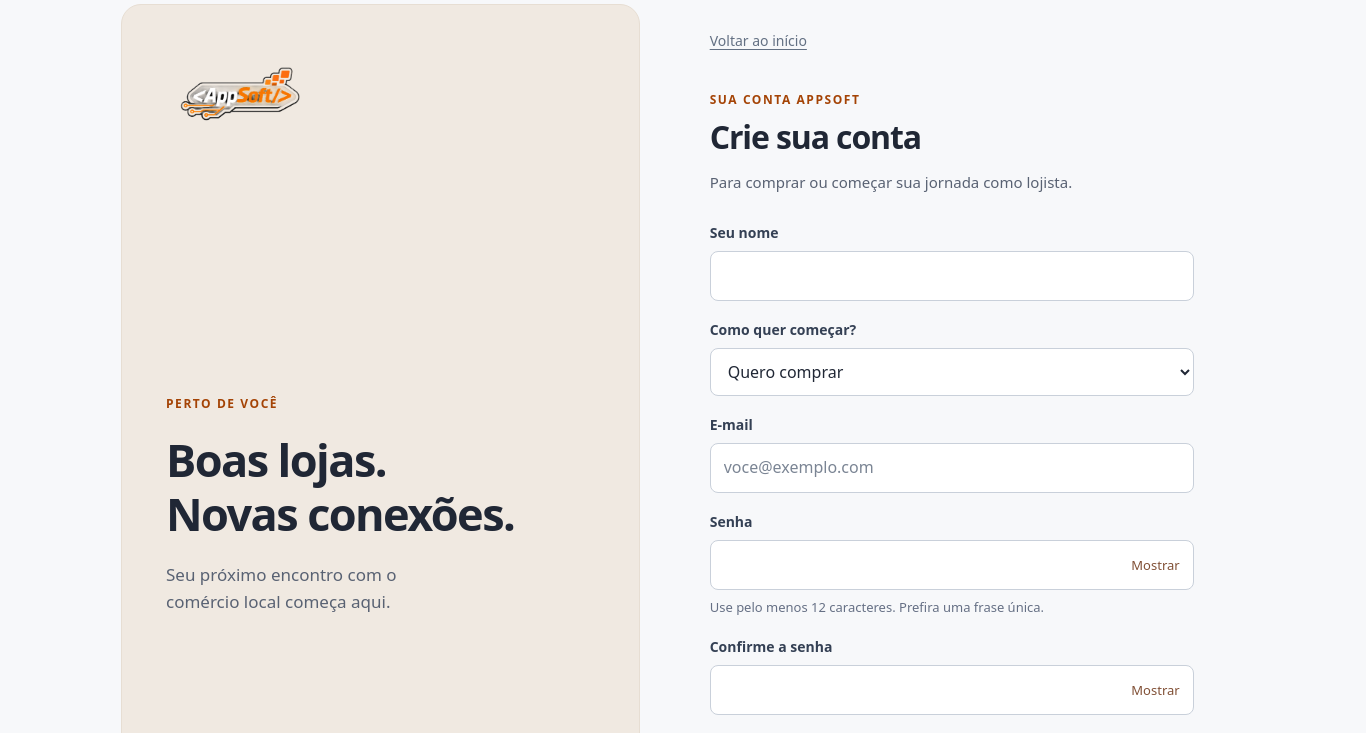
Test case: cadastro e login › não cadastra quando as senhas são diferentes
Type "Ana" into the field labelled "Seu nome".
click(952, 276); type("Ana")  # box [710,251,1194,301]
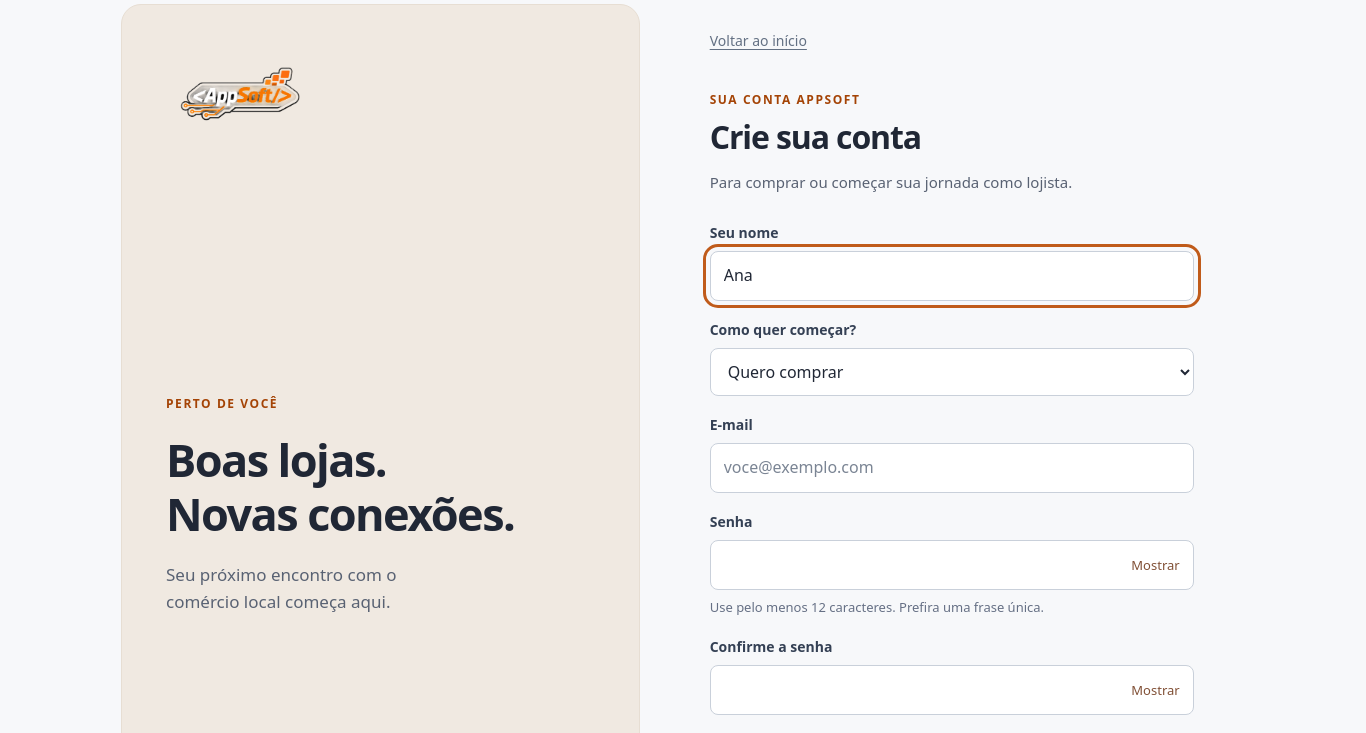
Type "ana@example.test" into the field labelled "E-mail".
click(952, 468); type("ana@example.test")  # box [710,443,1194,493]
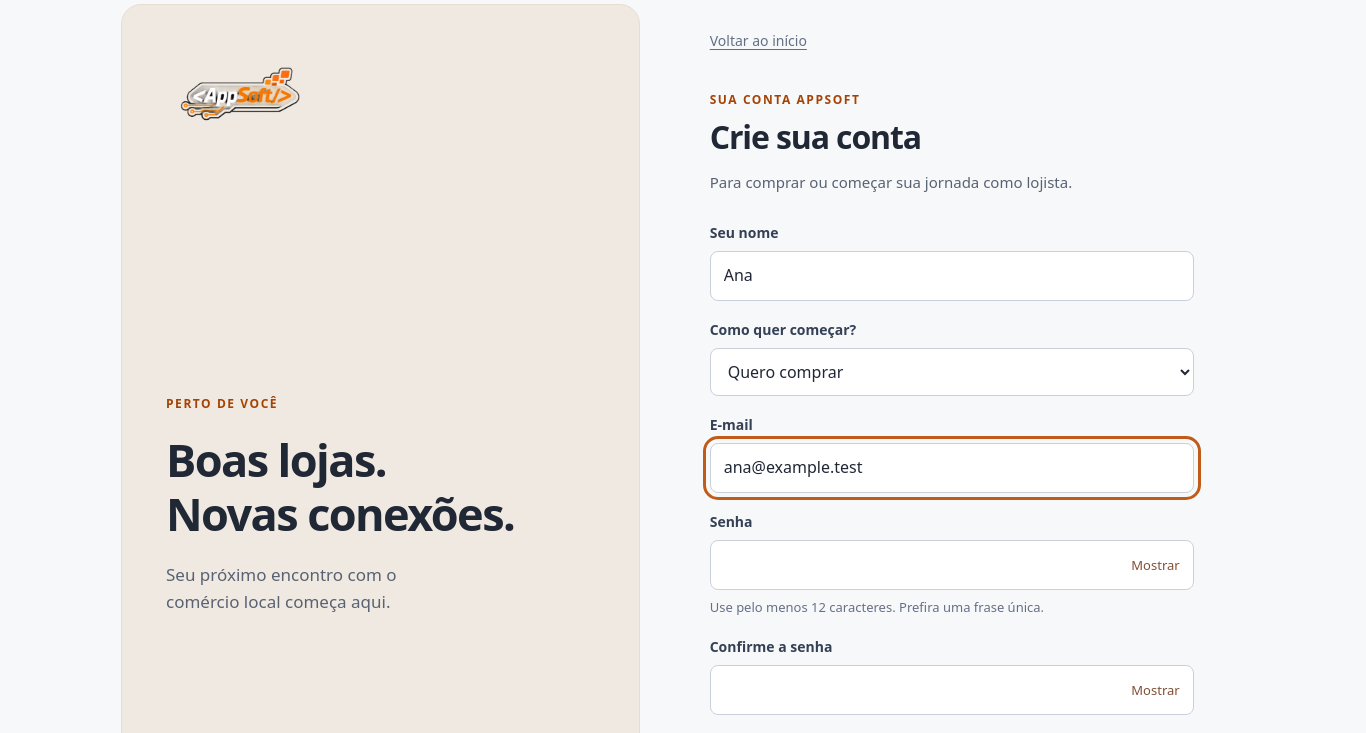
Type "primeira-senha-123" into the password field labelled "Senha".
click(952, 565); type("primeira-senha-123")  # box [710,540,1194,590]
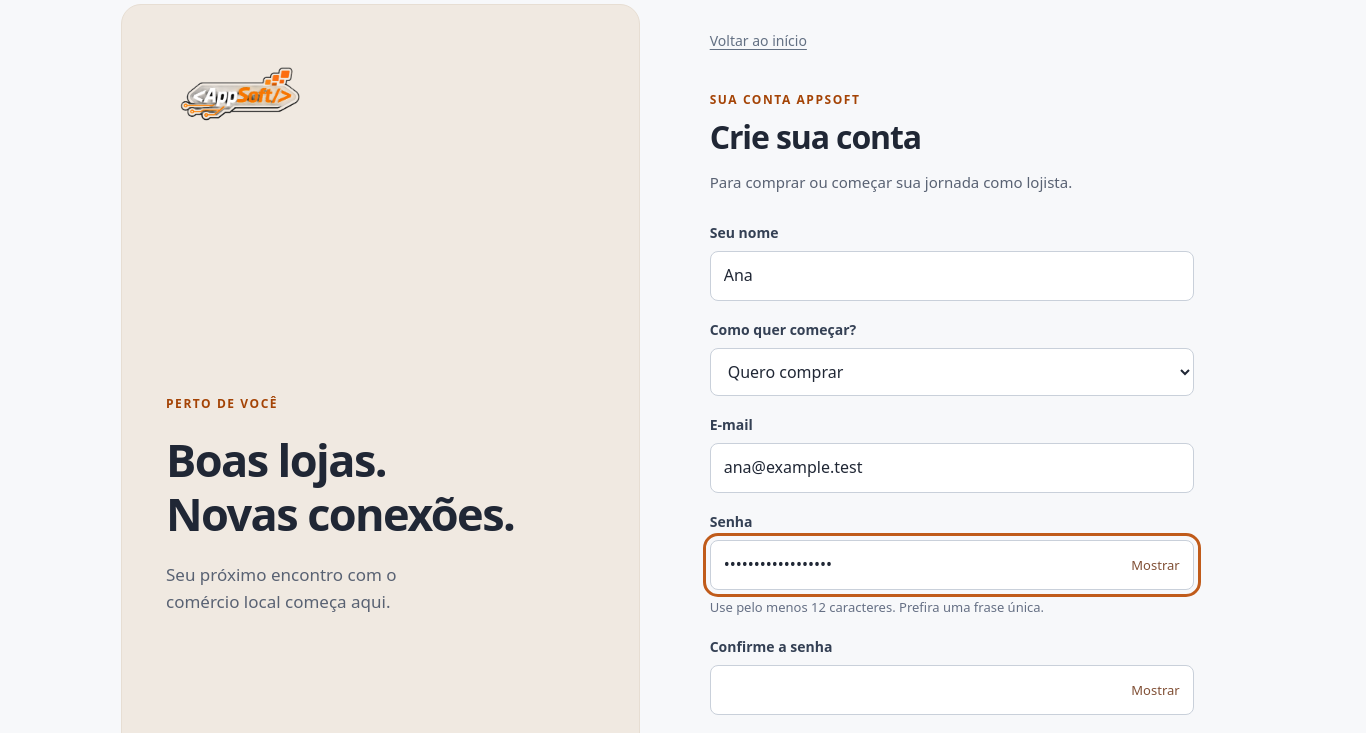
Type "outra-senha-123" into the password field labelled "Confirme a senha".
click(952, 690); type("outra-senha-123")  # box [710,665,1194,715]
(page scrolled)
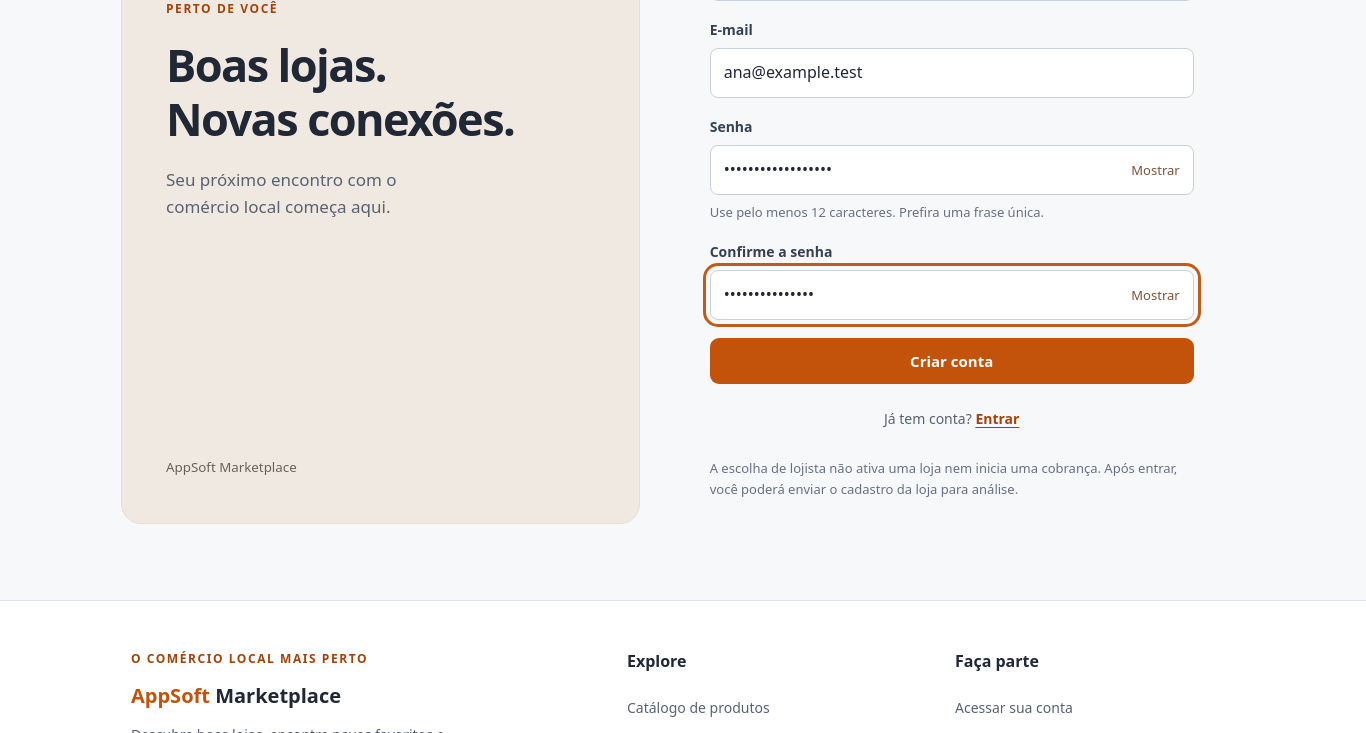
Click the button "Criar conta".
click(952, 361)  # box [710,338,1194,384]
(page scrolled)
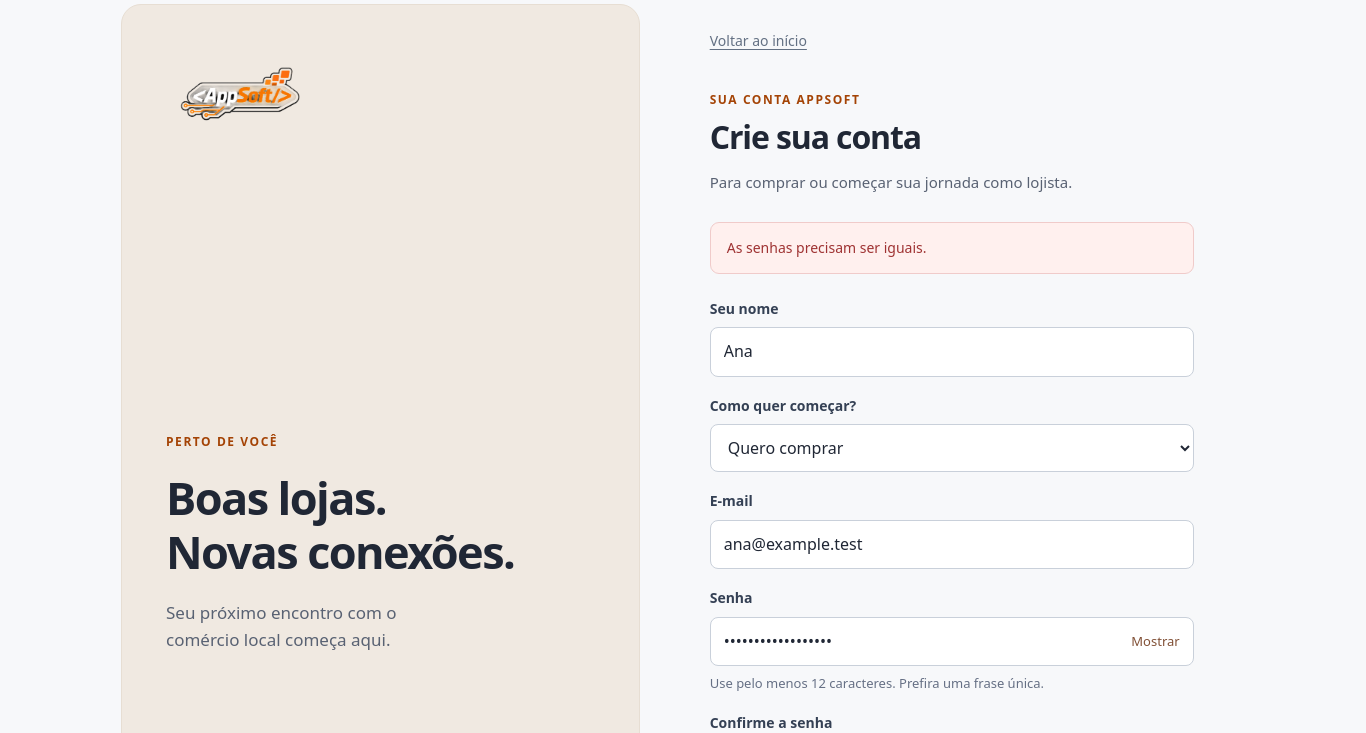
Now the message shows "As senhas precisam ser iguais", box [727,238,927,257]
